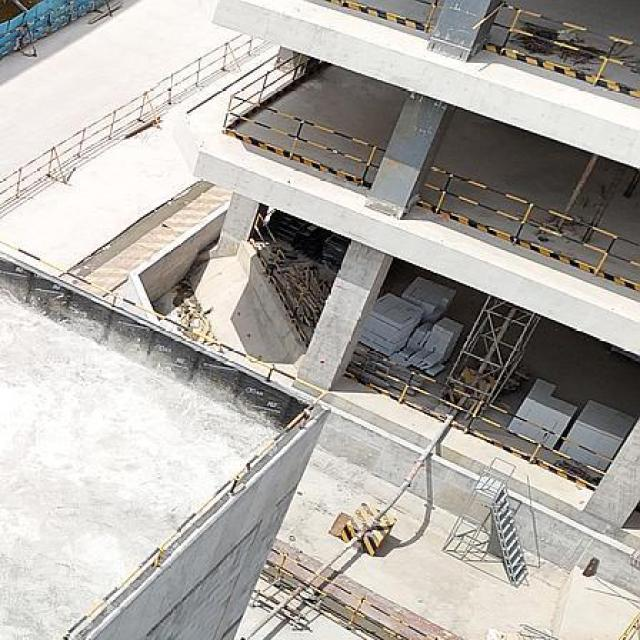edge_guardrail: (0, 238, 330, 640), (344, 344, 614, 489), (417, 164, 640, 289), (222, 53, 387, 188), (473, 1, 640, 96), (248, 212, 325, 341), (337, 0, 437, 34)
